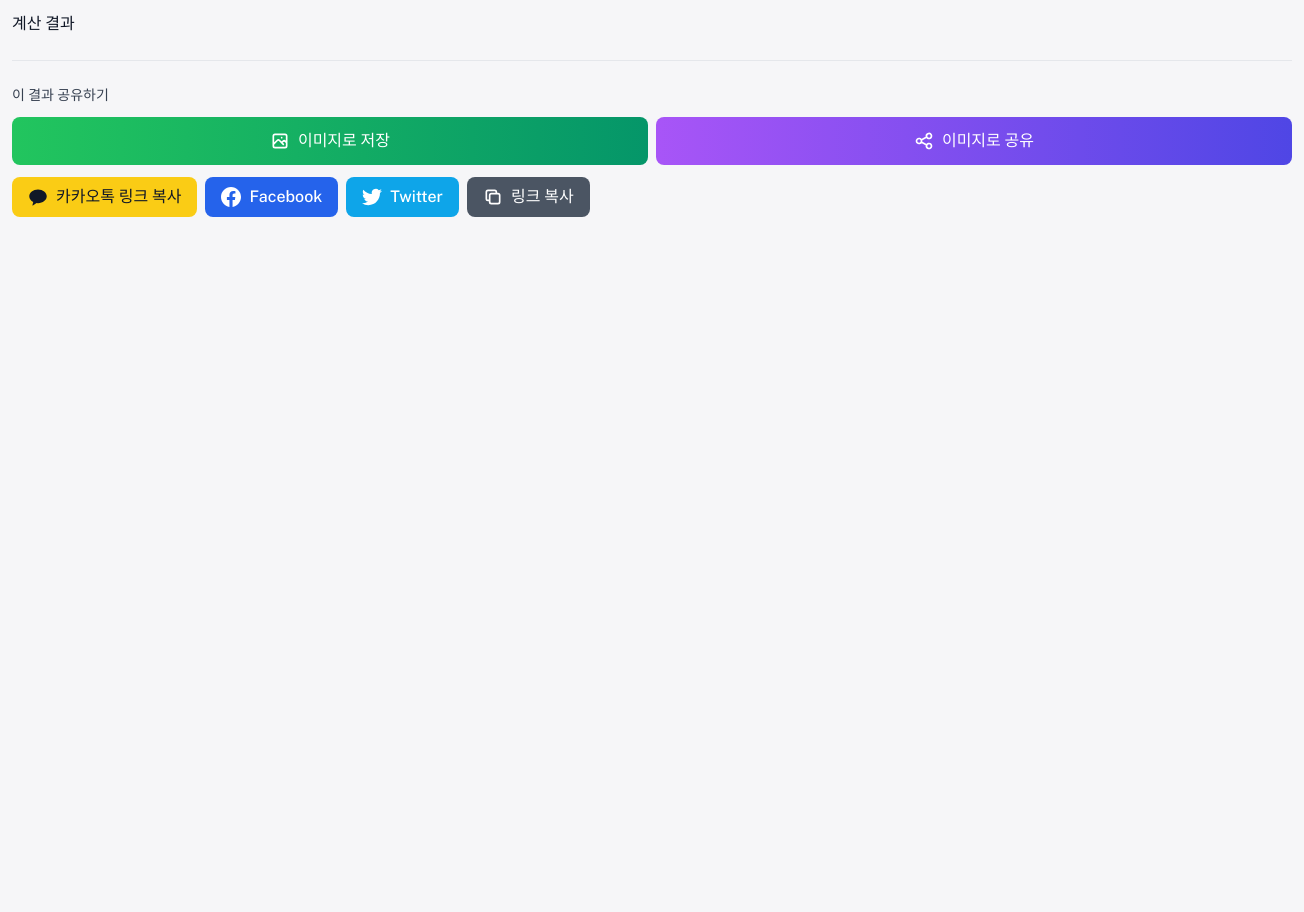
Test: native image sharing › reports real sharing errors without starting an unsolicited download
The image size is (1304, 912).
Click the button "이미지로 공유" at point(974, 141), box [656,117,1292,165]
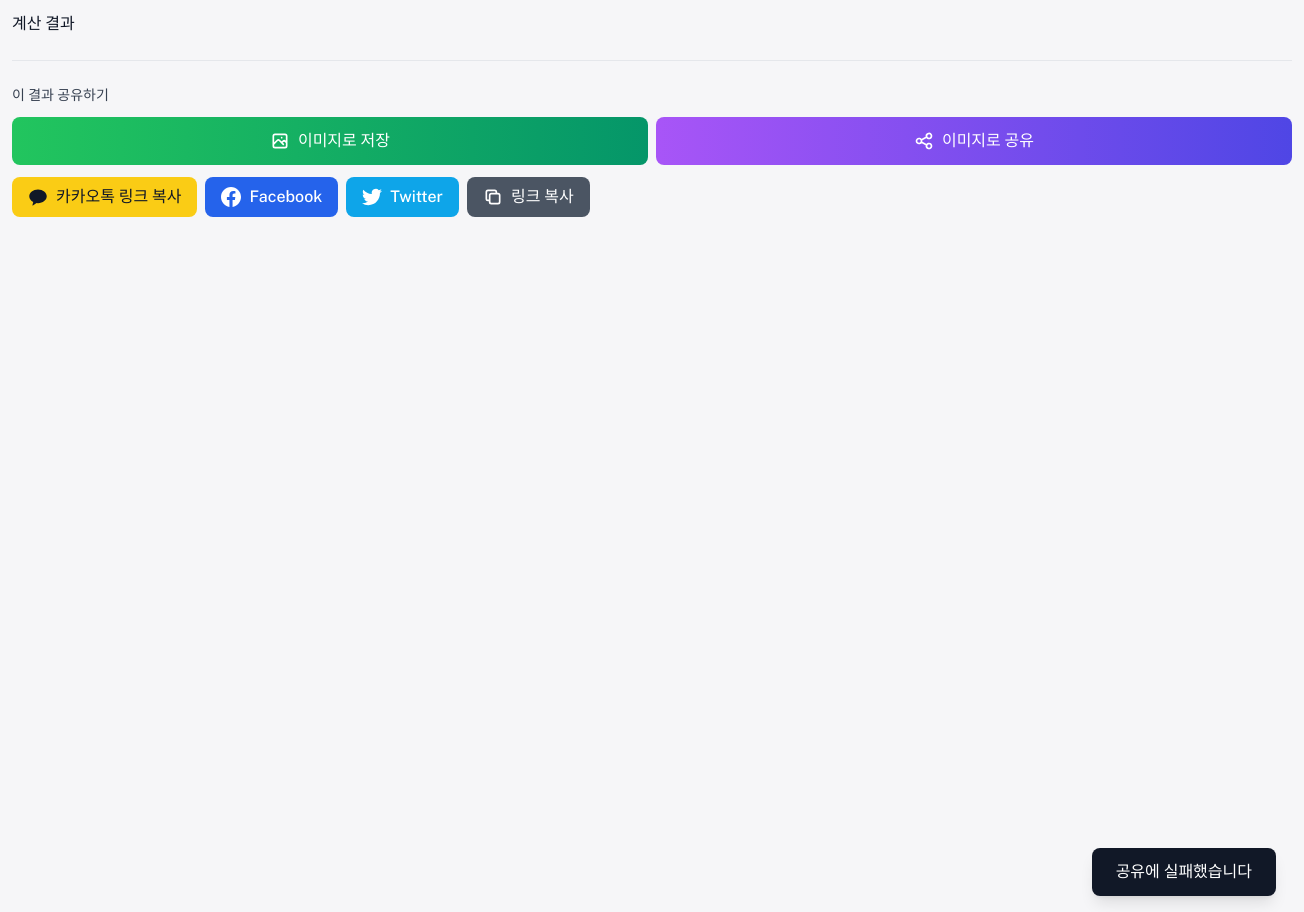
Now the text "공유에 실패했습니다" is shown, box [1092,848,1276,896]
